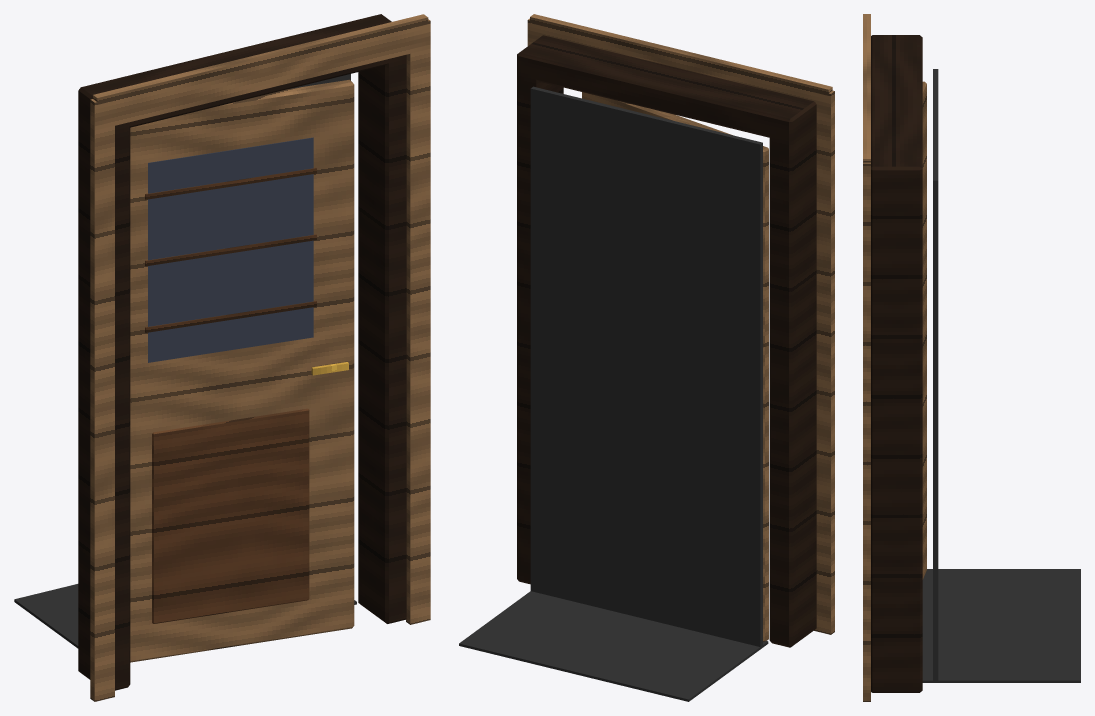
The model's file is interior_door_ajar.glb.
3 renders of one model, left to right at view 1: azimuth 30°, elevation 25°; view 2: azimuth 150°, elevation 25°; view 3: azimuth 270°, elevation 25°, orthographic. The views are drawn at different scales.
Visible parts, largest first — view 1: interior_door_ajar; view 2: interior_door_ajar; view 3: interior_door_ajar.
Boxes of the visible parts, x1,y1,x2,y2 form: interior_door_ajar: (14,14,430,701); interior_door_ajar: (459,14,834,701); interior_door_ajar: (863,14,1080,701).
Size of what is drawn, in the model's own units: 1.32 by 2.26 by 0.825.
7 materials, 5 textured.
